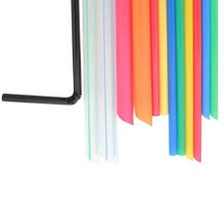drinking_straw: (0, 0, 88, 111), (113, 0, 136, 128)
